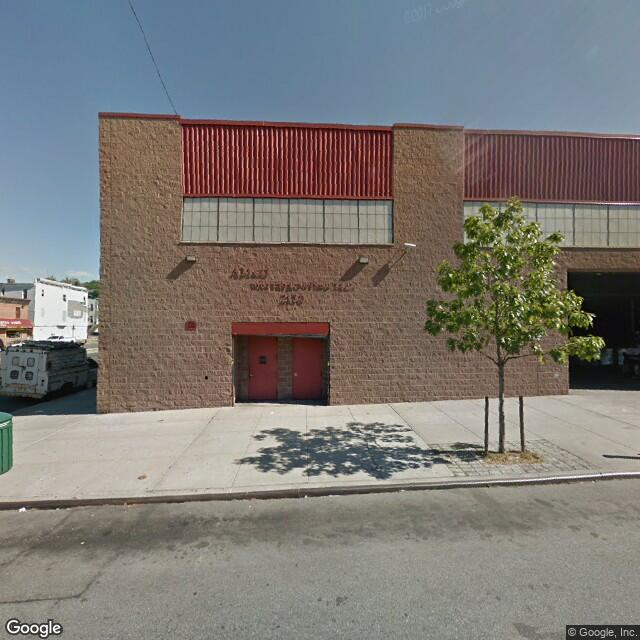litter: (267, 408, 275, 415), (33, 408, 40, 414), (17, 507, 25, 512), (399, 488, 405, 493), (302, 494, 307, 499), (620, 406, 624, 410), (80, 540, 85, 543)
